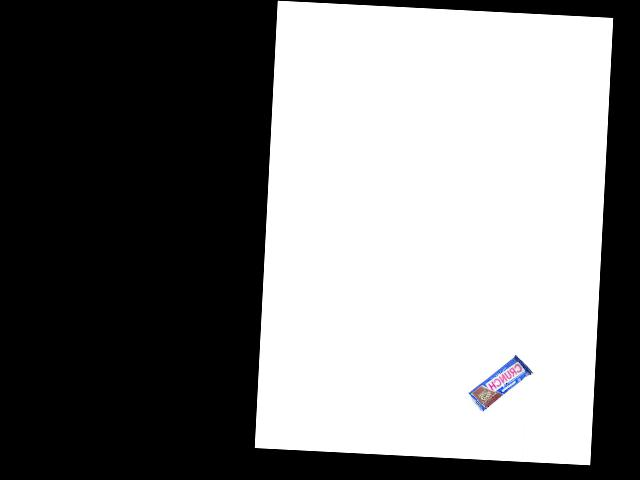chocolate: (466, 351, 535, 415)
